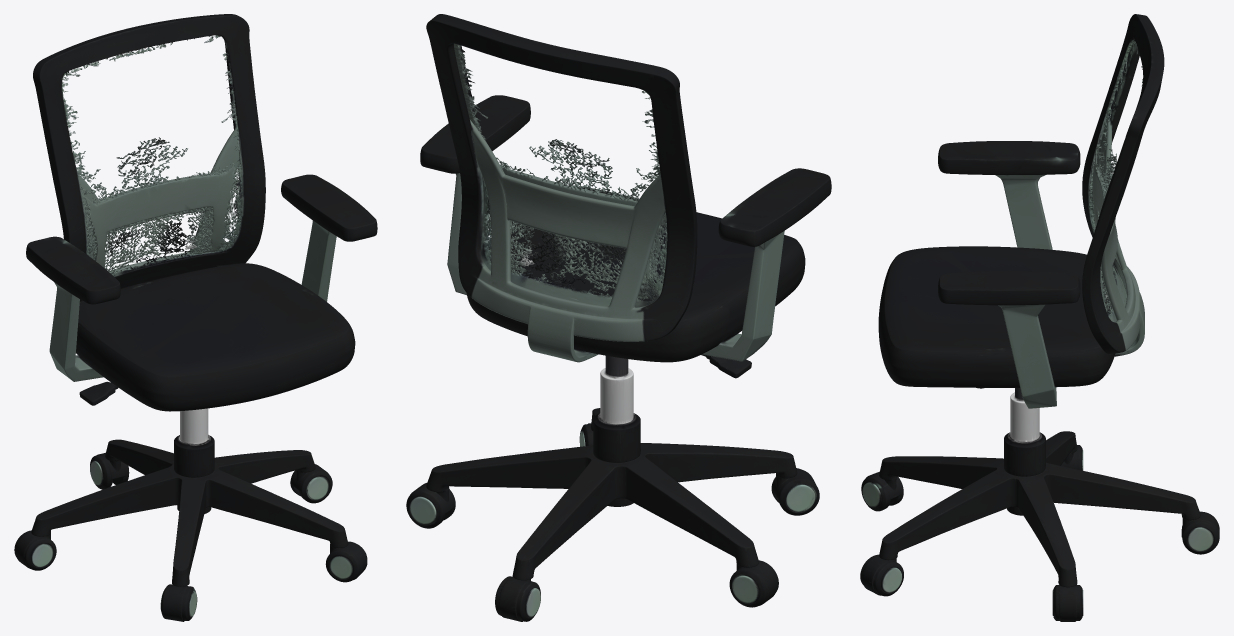
Rendered from office_chair__hunyuan.glb.
The picture shows the model from 3 angles, left to right: view 1: azimuth 30°, elevation 25°; view 2: azimuth 150°, elevation 25°; view 3: azimuth 270°, elevation 25°; orthographic projection. The views are drawn at different scales.
Parts seen in each view (by area): view 1: material; view 2: material; view 3: material.
Part boxes in pixels (box(x1,y1,x2,y2)): material: box(14, 14, 377, 621); material: box(406, 14, 831, 621); material: box(860, 14, 1219, 621).
Bounding box in the file's own units: 0.6621 × 0.9717 × 0.6443.
Materials: 1 (1 with a texture image).
